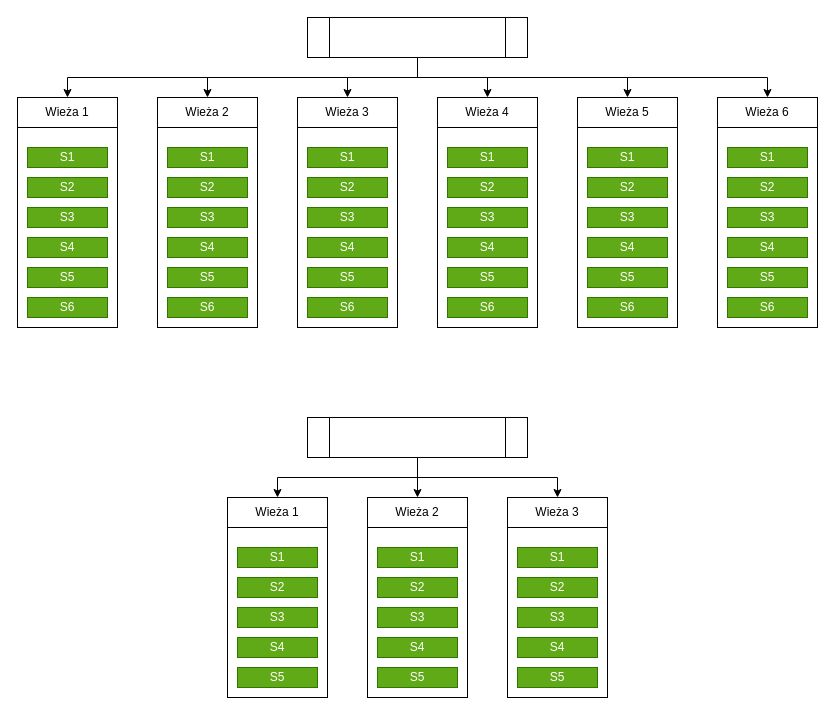
The diagram is 835 pixels wide and 723 high, and some of its shapes have lost their labels. Here are the shapes that lost their labels. From the top down, the box of each, then its label:
(306, 16, 528, 58): 3500590 KP Palenie
(306, 416, 528, 458): 3500580 KP Palenie
